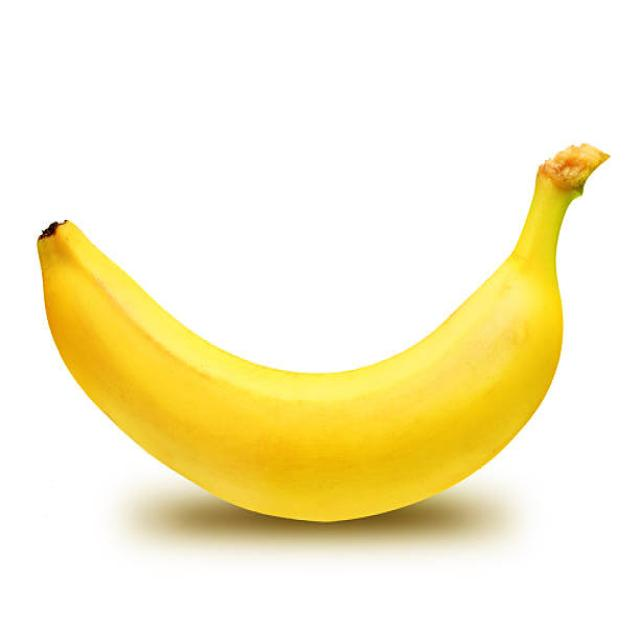banana: (37, 166, 565, 522)
